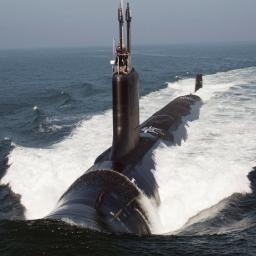submarine: (38, 2, 213, 236)
